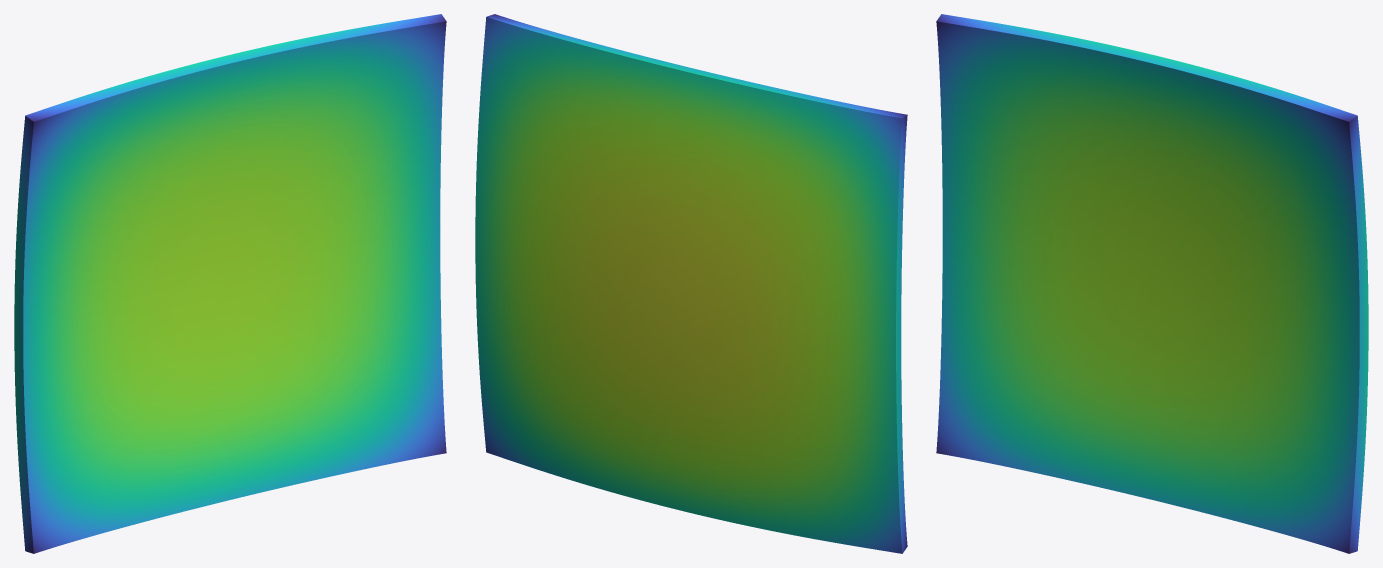
File: Eclipse_DISP_PEEK_3mm.gltf
The picture shows the model from 3 angles, left to right: view 1: azimuth 30°, elevation 25°; view 2: azimuth 150°, elevation 25°; view 3: azimuth 330°, elevation 25°; orthographic projection.
Visible parts, largest first — view 1: Renderer Node; view 2: Renderer Node; view 3: Renderer Node.
Boxes of the visible parts, x1=… form: Renderer Node: x1=14, y1=14, x2=446, y2=553; Renderer Node: x1=475, y1=14, x2=907, y2=553; Renderer Node: x1=936, y1=14, x2=1368, y2=553.
Size of the model in its own units: 71.2 by 71.2 by 7.13.
1 material, 1 textured.
